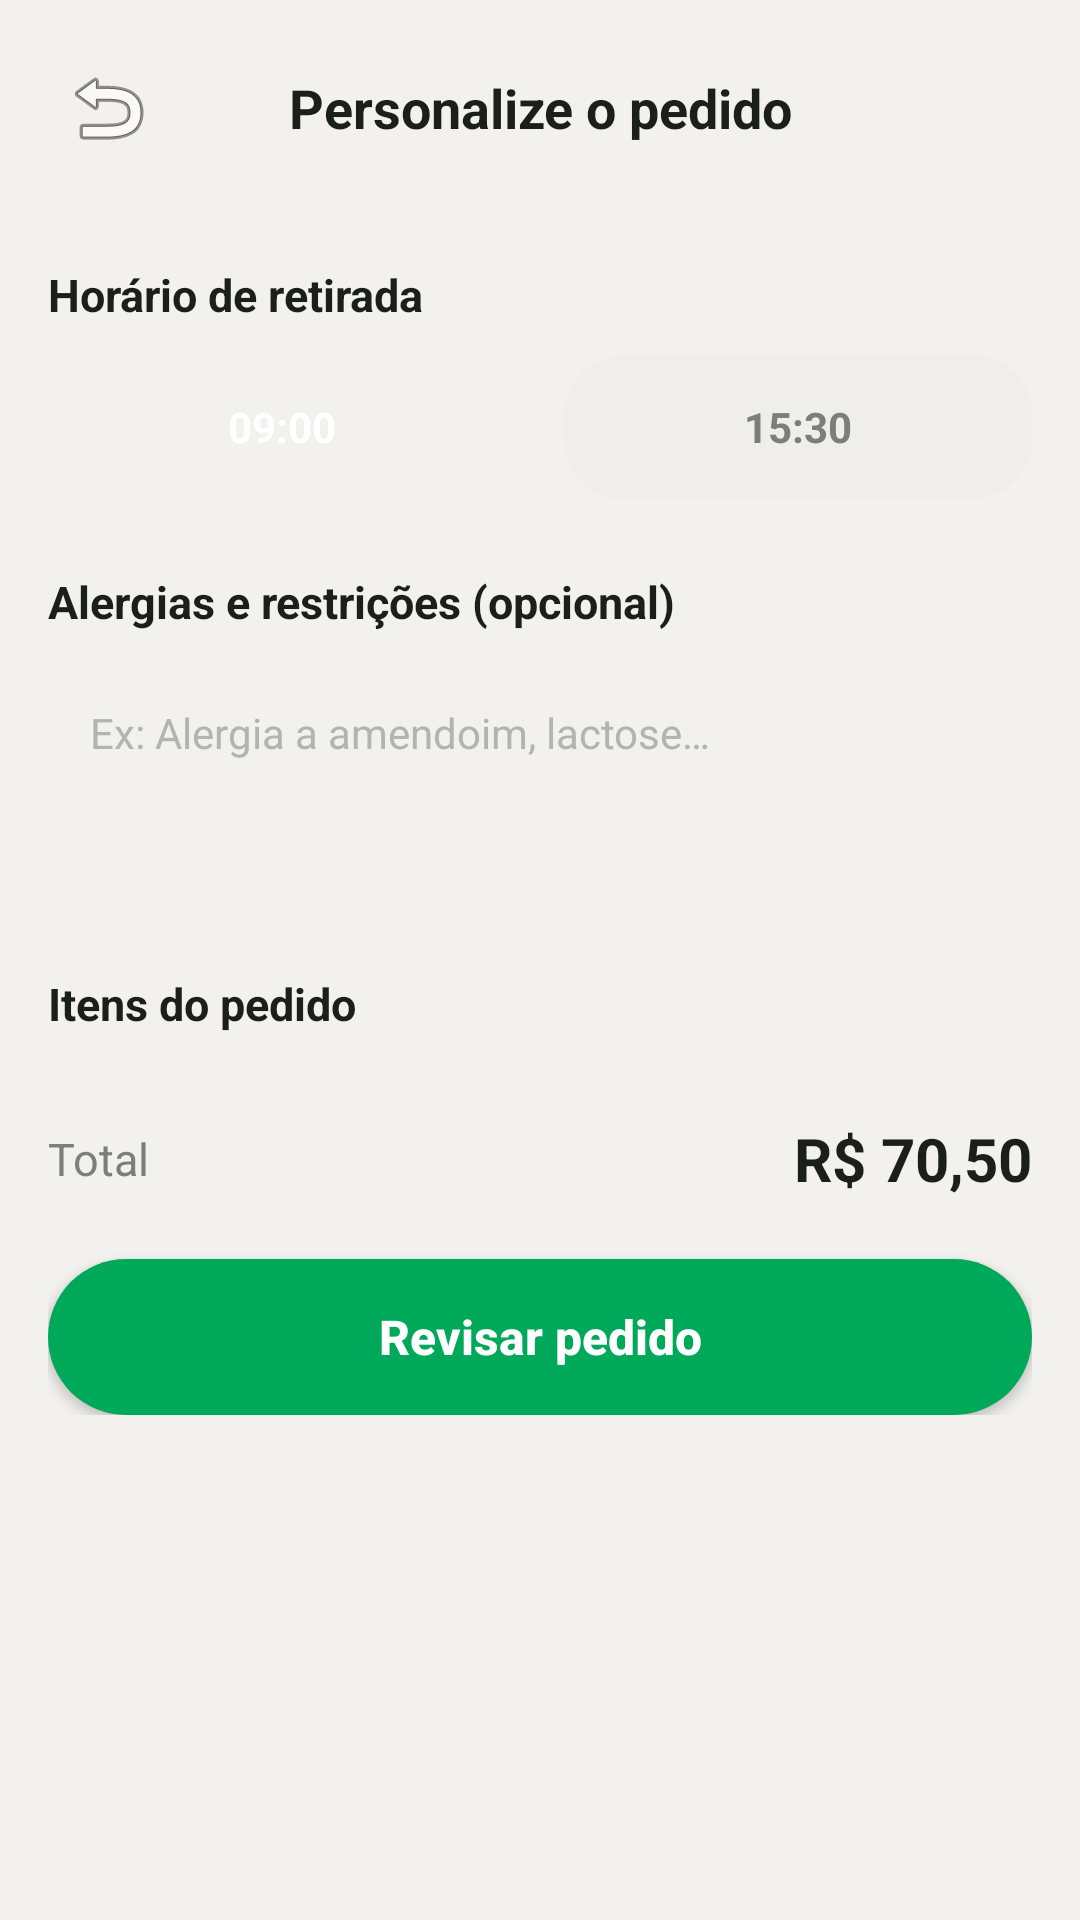

Screen size 1080x1920. Icon name, then its box in pixels as (x1, y1, x2, y2):
Voltar: (75, 77, 144, 140)
